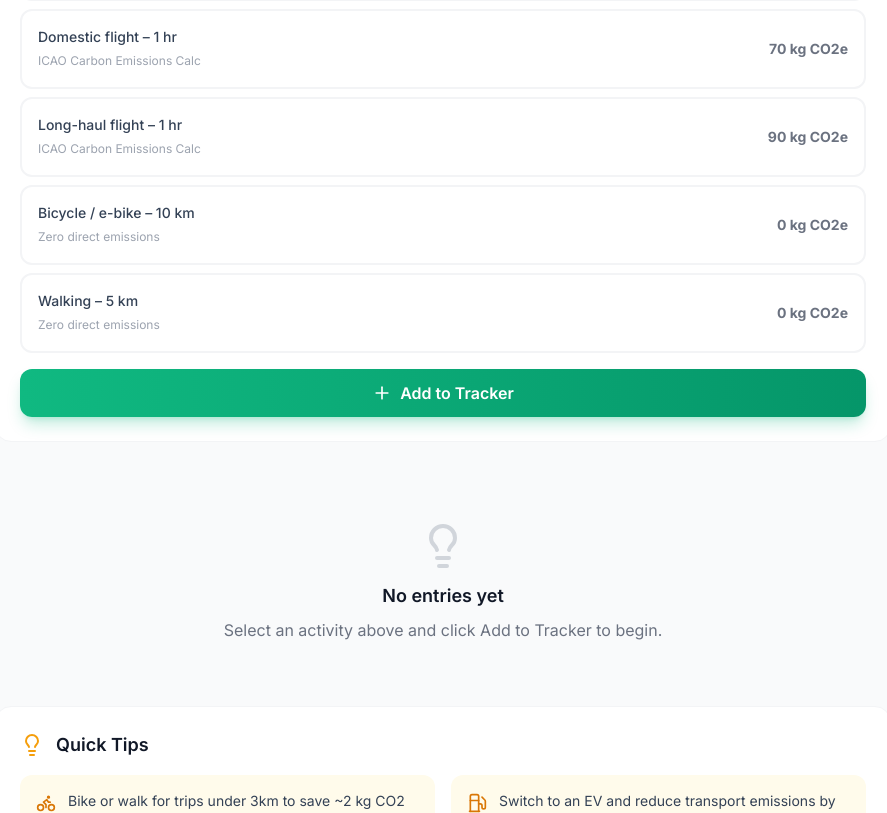
Calculator › removes entry when clicking trash button
The image size is (887, 813).
(page scrolled)
Click the button "Add to Tracker" at (443, 393), box 20,369 -> 866,417
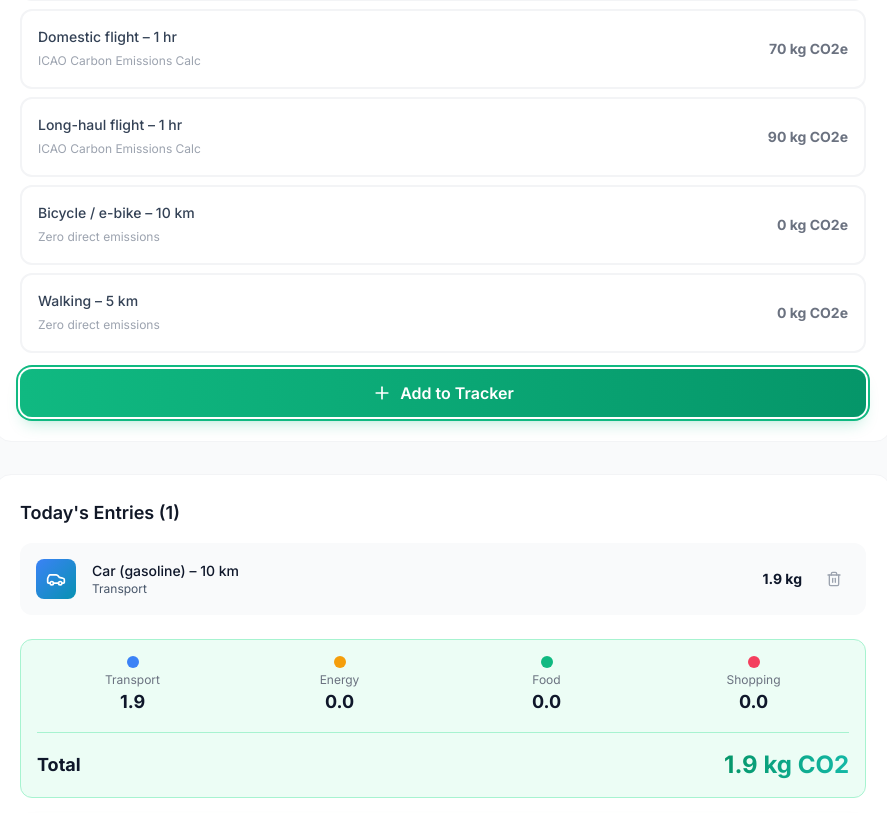
Click the button named "remove" at (834, 579), box 818,563 -> 850,595
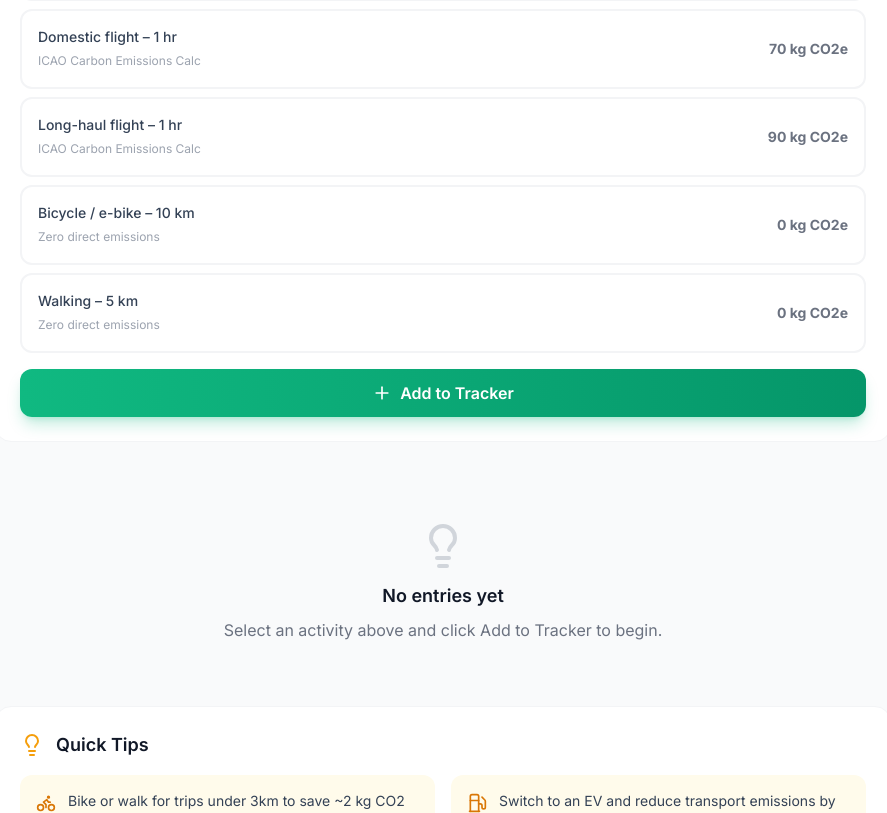
Check: the heading "Today's Entries" is gone
